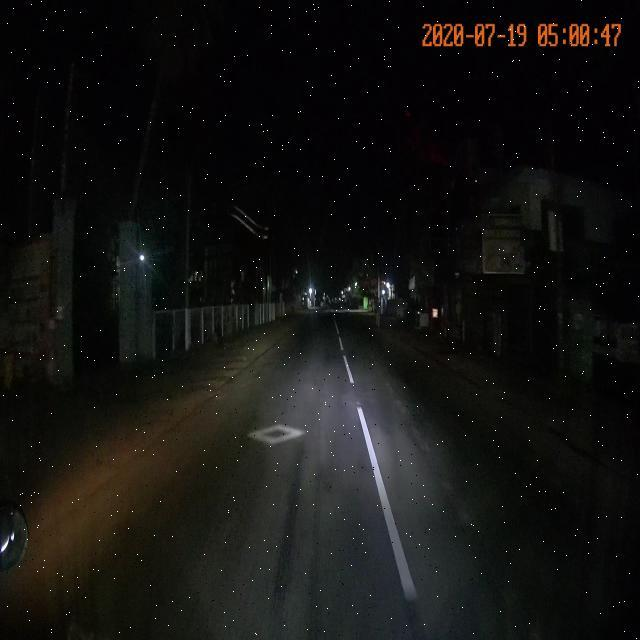diamond: (177, 404, 384, 474)
